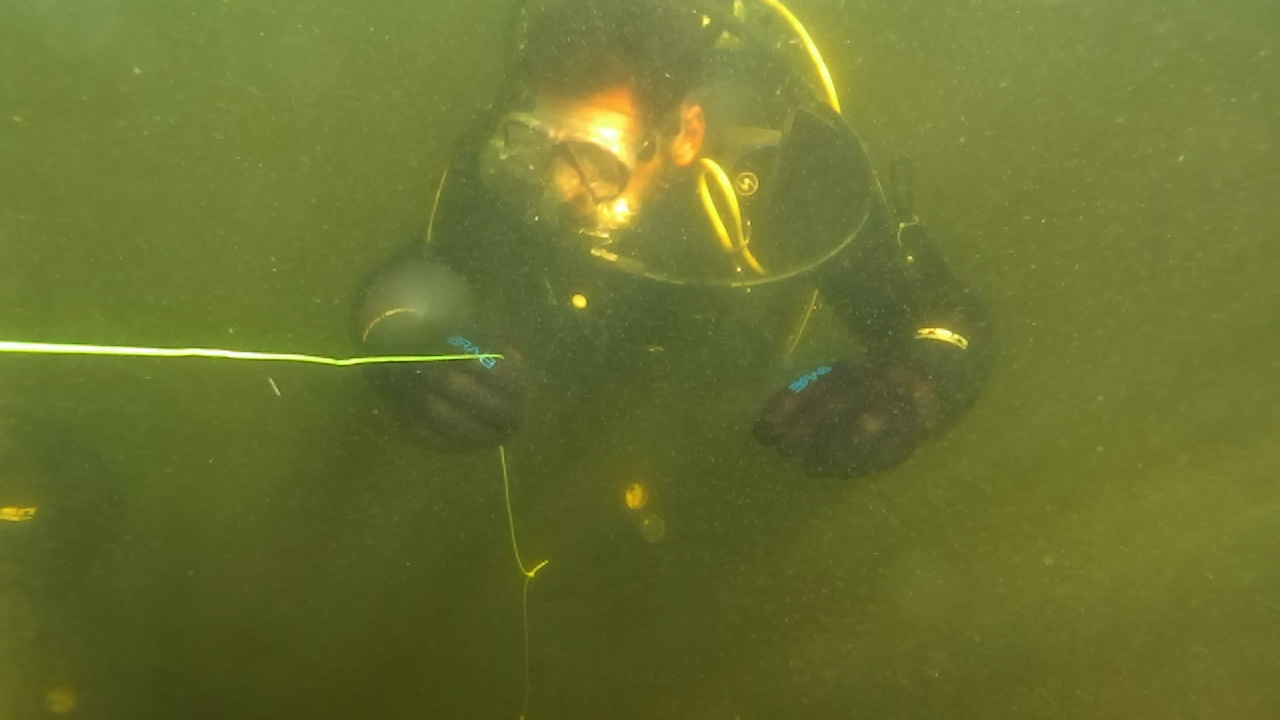Diver: (352, 0, 1020, 500)
Hand: (346, 310, 540, 464), (742, 352, 948, 476)
Head: (474, 14, 716, 252)
